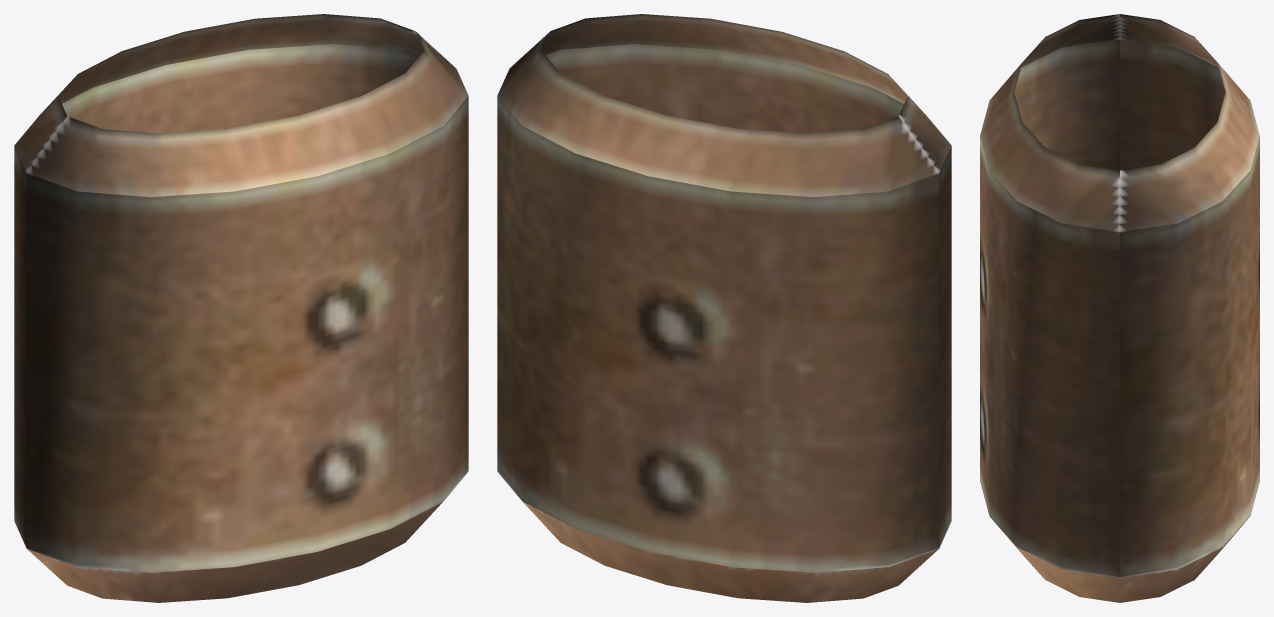
The model's file is vibro_sword2b_pommel.fbx.
The picture shows the model from 3 angles, left to right: view 1: azimuth 30°, elevation 25°; view 2: azimuth 150°, elevation 25°; view 3: azimuth 270°, elevation 25°; orthographic projection. The views are drawn at different scales.
Parts seen in each view (by area): view 1: vibro_sword2b_pommel; view 2: vibro_sword2b_pommel; view 3: vibro_sword2b_pommel.
Boxes of the visible parts, x1,y1,x2,y2 form: vibro_sword2b_pommel: [14, 14, 468, 602]; vibro_sword2b_pommel: [497, 14, 951, 602]; vibro_sword2b_pommel: [980, 14, 1259, 602].
Size of the model in its own units: 4 by 4.17 by 2.45.
1 material, 1 textured.
